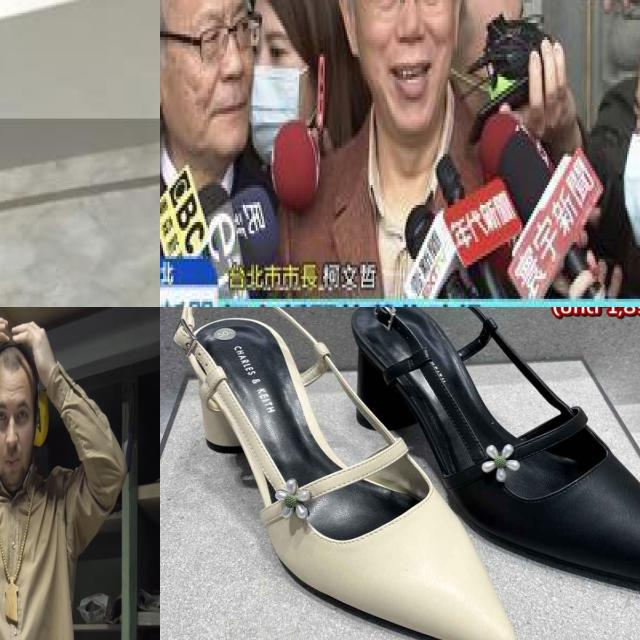Ear-protection: (0, 336, 53, 496)
No_Ear-Protection: (335, 0, 363, 65)
No_Glasses: (0, 395, 33, 432), (621, 90, 640, 146)
Sandals: (160, 307, 529, 640), (344, 307, 640, 613)
face_mask: (244, 23, 314, 168), (620, 85, 640, 256)
face_nomask: (160, 0, 249, 168), (355, 0, 454, 139)
glasses: (196, 13, 263, 67), (368, 0, 453, 26)
hand_noglove: (498, 37, 574, 137)
head_nohelmet: (247, 0, 337, 17)
person: (302, 0, 553, 307), (0, 311, 126, 640), (0, 118, 160, 307), (160, 0, 257, 307)
